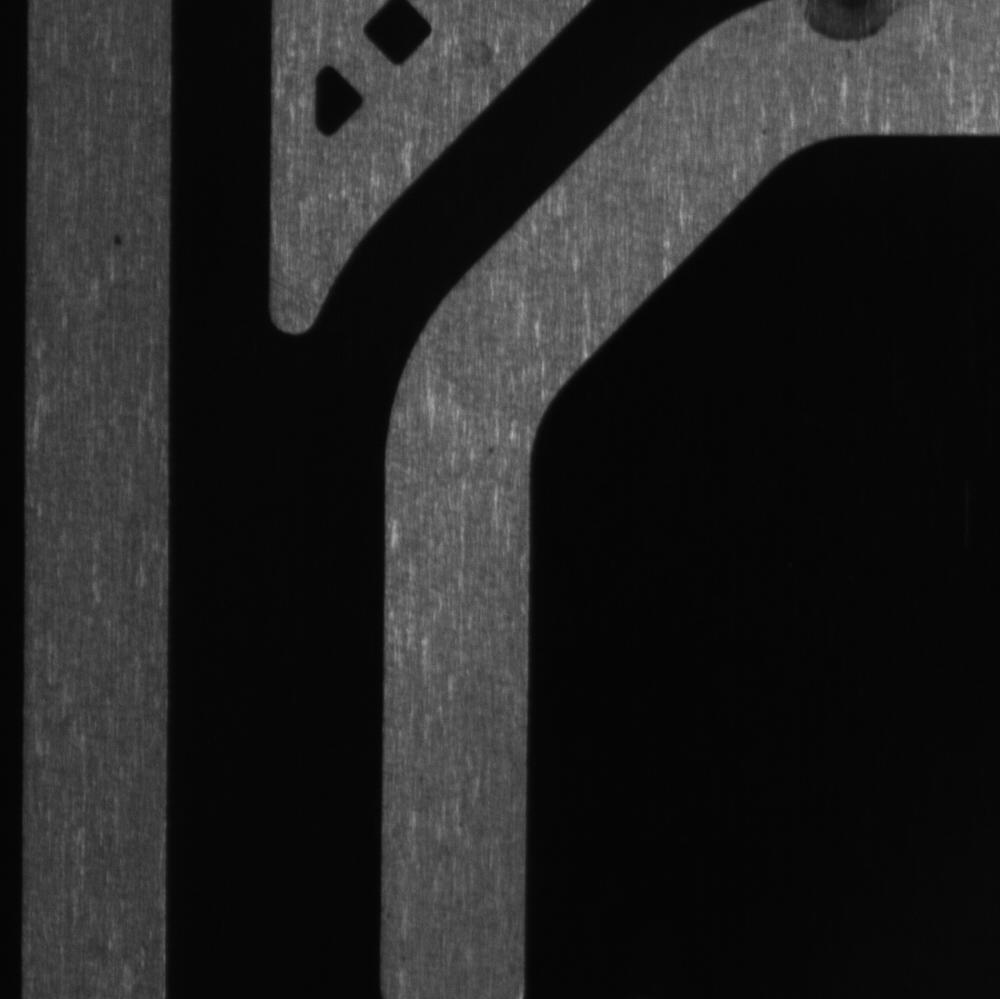Discolor: (789, 2, 932, 66)
Pinhole: (91, 212, 142, 266)
